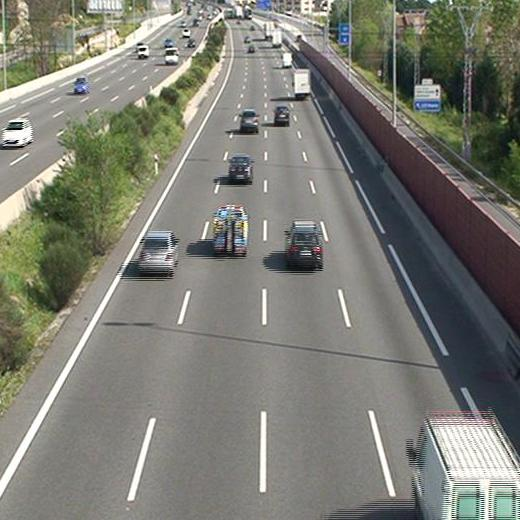car: (139, 233, 179, 274), (286, 222, 323, 266), (213, 206, 247, 253), (227, 154, 254, 182), (239, 109, 258, 133), (273, 106, 289, 124)
small-truck: (294, 68, 310, 100)
van: (409, 415, 520, 519), (281, 52, 292, 66)
